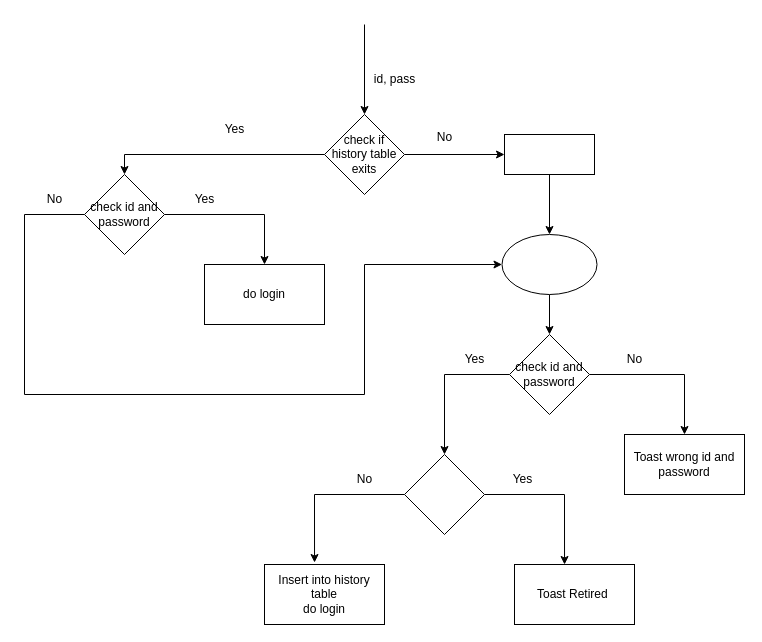
The diagram is 762 pixels wide and 642 high, and some of its shapes have lost their labels. The shapes that lost their labels are listed below. From the top down, each one's centre as x and y in pixels, then its label:
At point (549, 154): "create history table".
At point (549, 264): "get emp data through api".
At point (444, 494): "check status=I".
